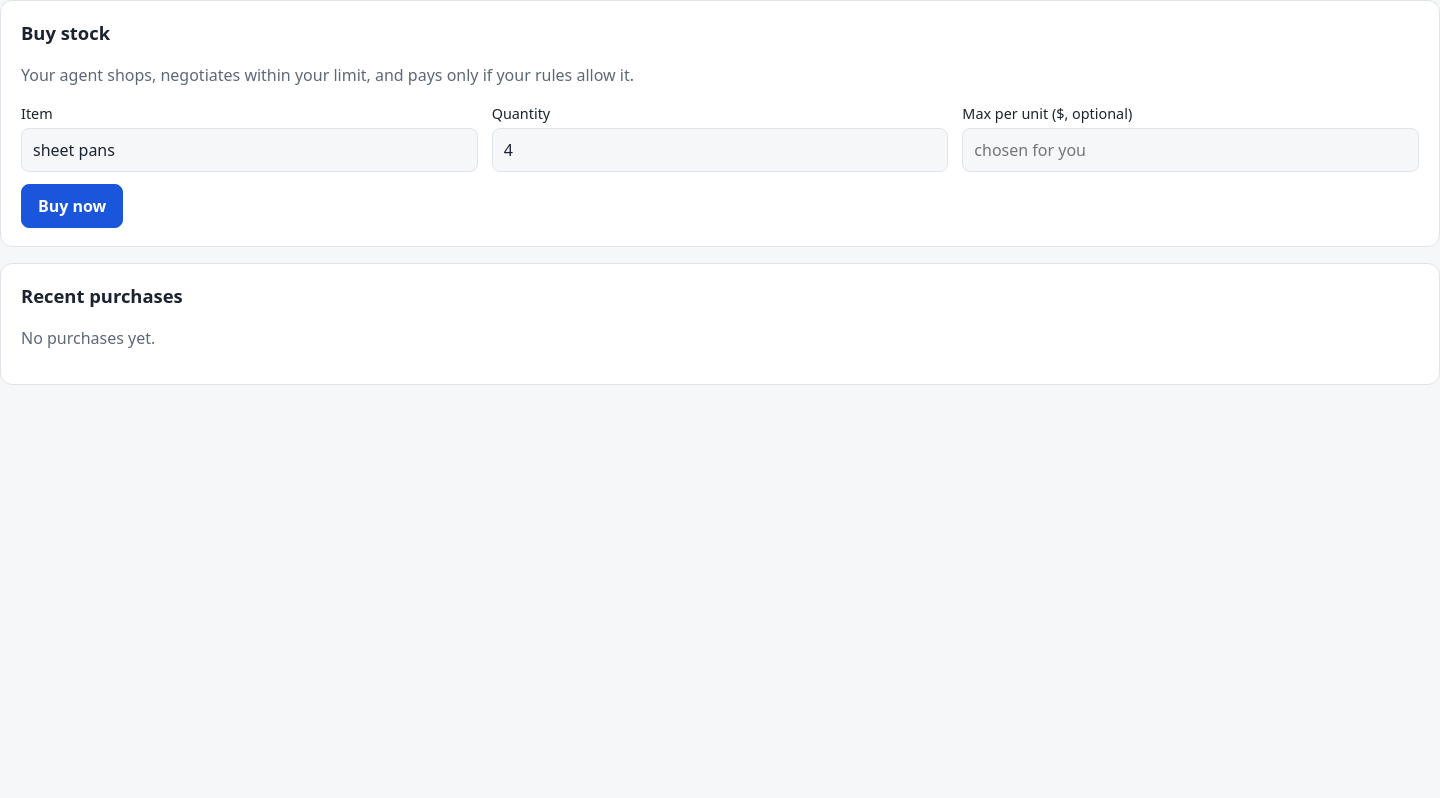
Test case: PurchaseScreen › runs a purchase and shows the negotiation in plain English
Step 1. Click the button "Buy now" → (72, 206), box [21,184,123,228]
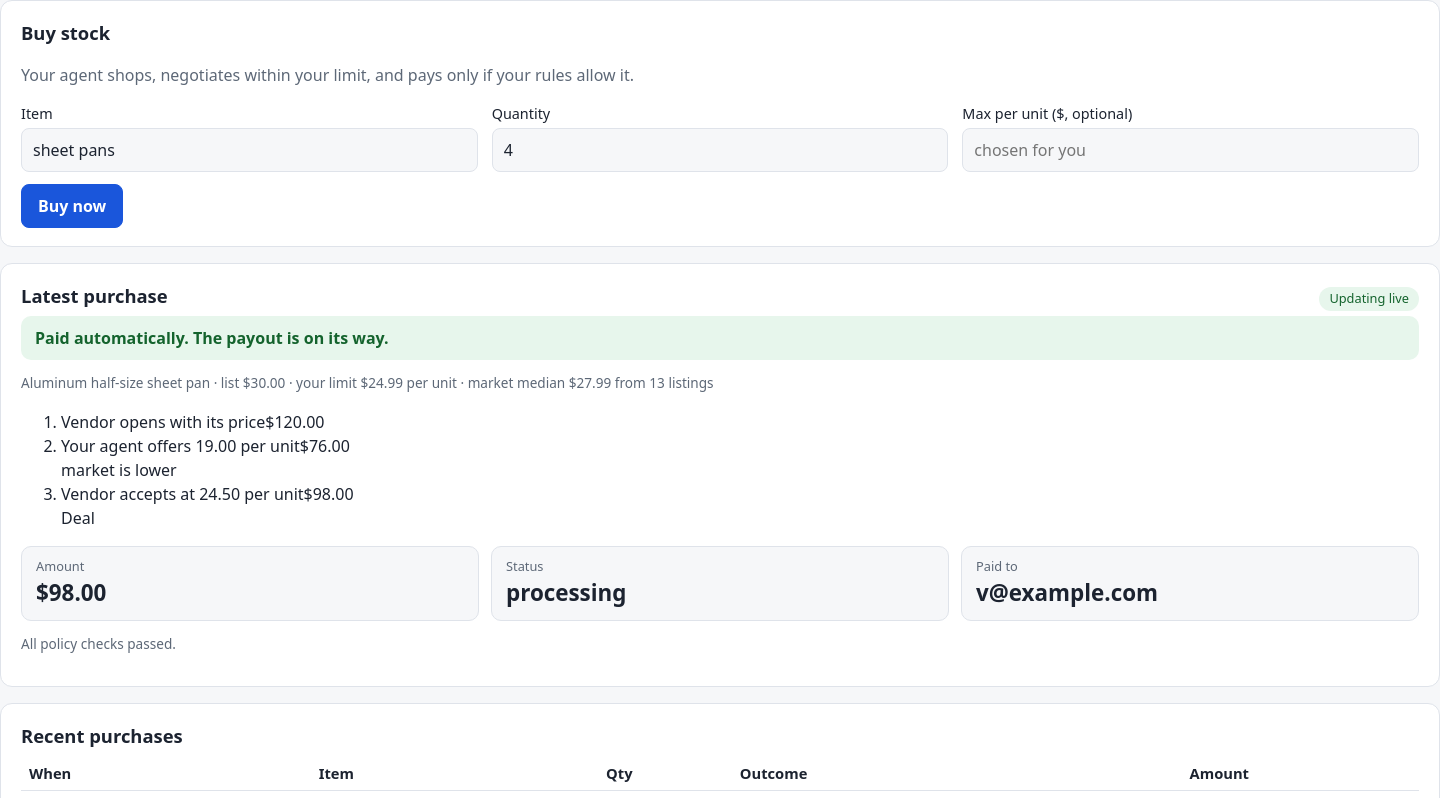
Check: the text "Paid automatically. The payout is on its way." is shown, box [35,327,389,349]
Check: the text "Vendor opens with its price" is shown, box [61,411,265,433]
Check: the text "Your agent offers 19.00 per unit" is shown, box [61,435,300,457]
